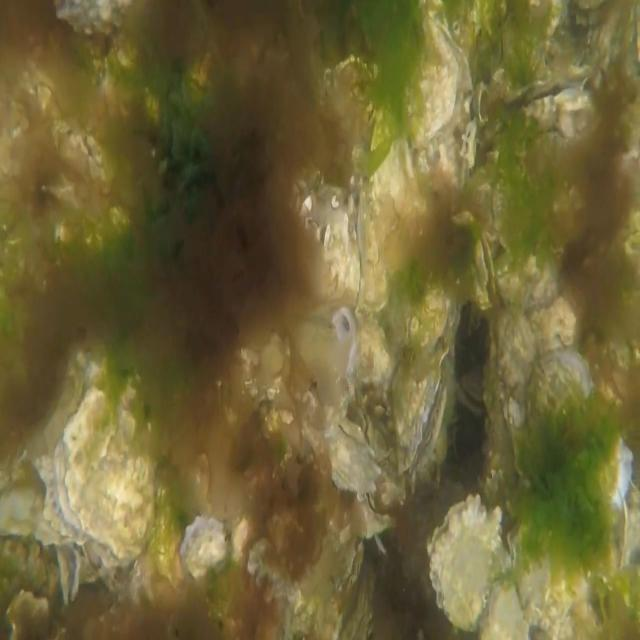Oyster-Closed: (506, 514, 589, 631), (394, 348, 450, 476), (306, 418, 382, 500), (350, 487, 395, 539), (347, 183, 364, 307)
Oyster-Indeterminate: (526, 350, 632, 511), (55, 390, 152, 564), (429, 492, 503, 631), (368, 110, 420, 280), (404, 0, 460, 150), (492, 302, 538, 476), (494, 248, 562, 314), (359, 190, 390, 318), (415, 283, 461, 366), (181, 514, 227, 576)
Oyster-Open: (499, 71, 596, 152), (314, 207, 346, 290), (473, 232, 498, 314)
